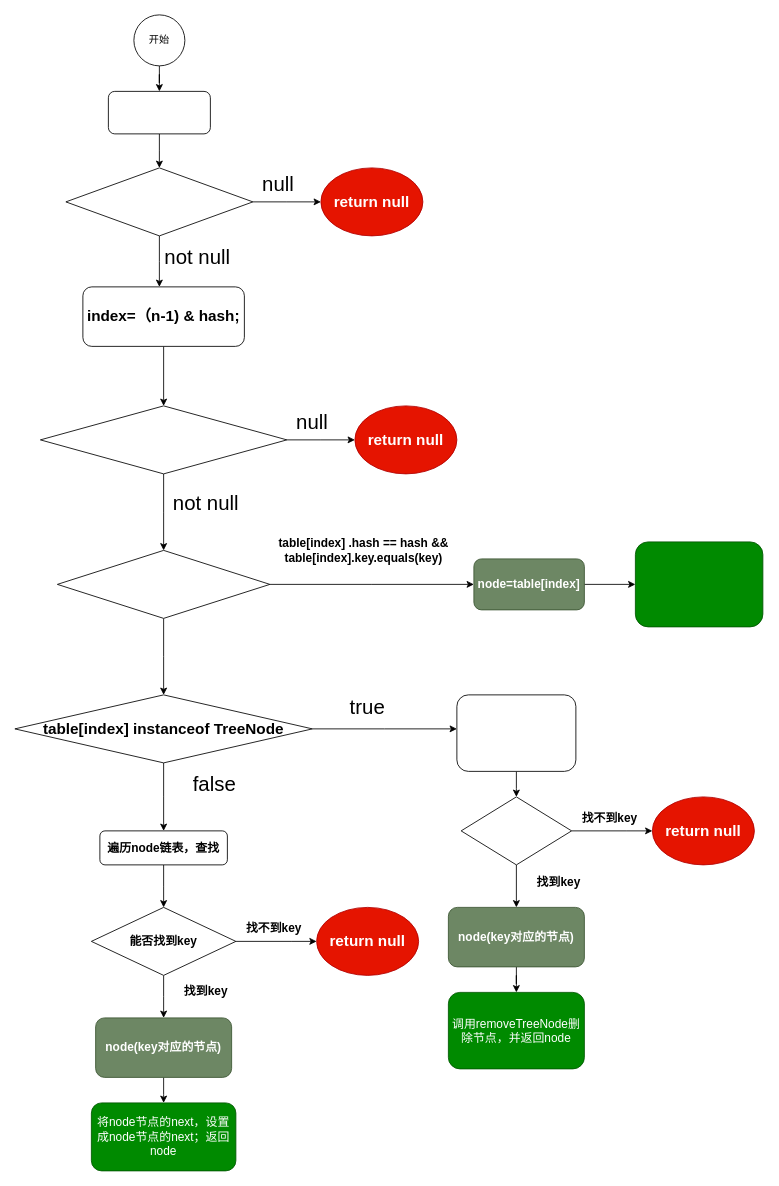
The diagram is 779 pixels wide and 1186 high, and some of its shapes have lost their labels. Here are the shapes that lost their labels. From the top down, the centre of each, then its label:
point 159,112: 获取key的hash值
point 159,201: table ？null
point 163,439: table[index] ? null
point 163,584: table[index] .hash==hash？
point 699,584: table[index]=node.next 返回node
point 516,732: 调用TreeNode的getTreeNode,查找
point 516,830: 能否找到key？
